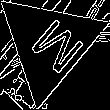M_SW: (16, 10, 81, 78)
